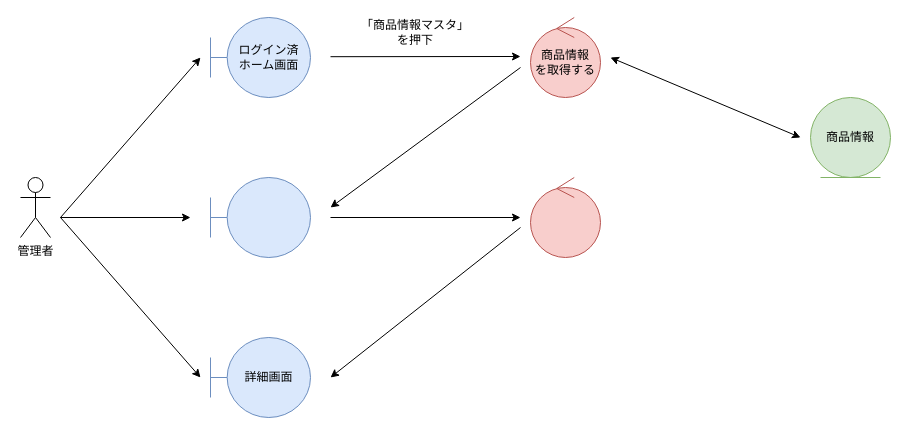
Some shapes in this 908 by 435 pixel diagram are drawn without their labels. Each missing label, with the box of its shape:
商品情報 一覧画面: (210, 176, 310, 258)
表示する: (530, 176, 600, 258)
